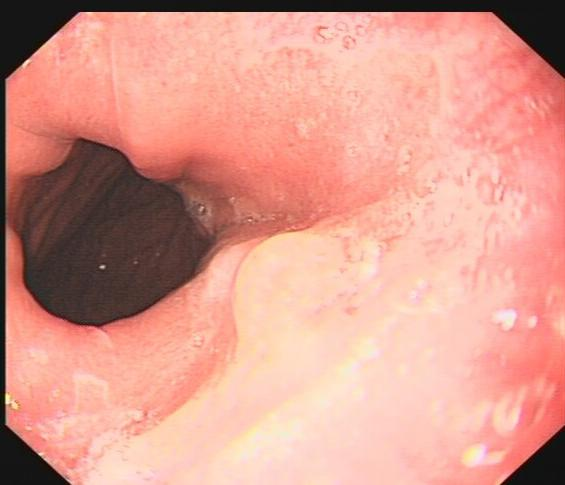Polyp: (229, 228, 391, 351)
